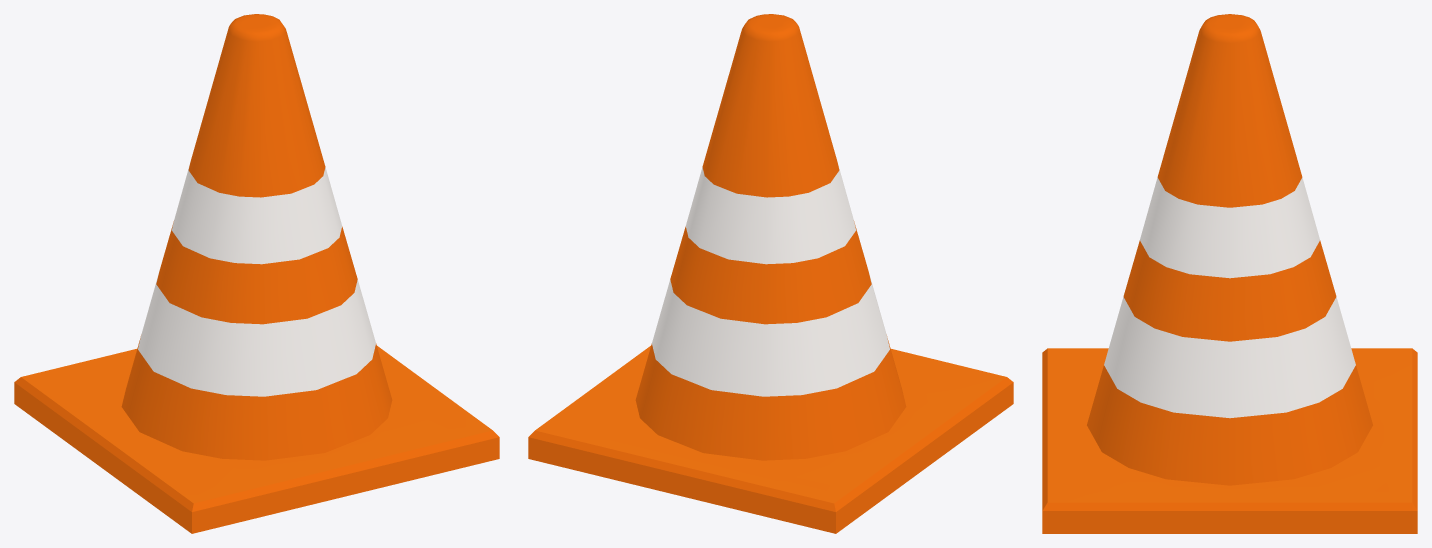
Rendered from TrafficCone.glb.
The picture shows the model from 3 angles, left to right: view 1: azimuth 30°, elevation 25°; view 2: azimuth 150°, elevation 25°; view 3: azimuth 270°, elevation 25°; orthographic projection. The views are drawn at different scales.
Parts seen in each view (by area): view 1: TrafficCone; view 2: TrafficCone; view 3: TrafficCone.
Part boxes in pixels (box(x1,y1,x2,y2)): TrafficCone: box(14, 14, 499, 533); TrafficCone: box(528, 14, 1013, 533); TrafficCone: box(1042, 14, 1417, 533).
Size of the model in its own units: 0.9219 by 1.17 by 0.9219.
Materials: 1 (1 with a texture image).
